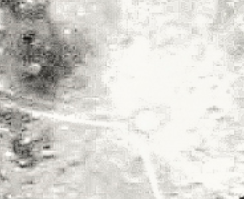crater: (113, 84, 183, 158)
